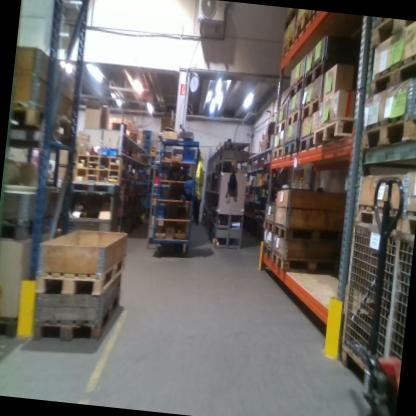pallet: (32, 244, 127, 306), (31, 285, 119, 351), (7, 103, 78, 143), (369, 49, 416, 103), (360, 114, 416, 155), (312, 111, 356, 151), (270, 251, 338, 276), (352, 205, 399, 236), (274, 223, 342, 244), (303, 57, 338, 94), (371, 17, 410, 49), (300, 91, 325, 123), (394, 203, 415, 238), (294, 10, 313, 41), (298, 126, 317, 156), (281, 28, 296, 61), (288, 75, 304, 103), (286, 105, 302, 133), (282, 137, 299, 160), (270, 143, 286, 162), (272, 117, 287, 137), (261, 217, 275, 234), (261, 246, 274, 261), (311, 10, 317, 18)
pallet_truck: (347, 170, 416, 416)
small_load_carrier: (182, 147, 196, 164)
stillage: (331, 213, 398, 389), (381, 227, 415, 379)
